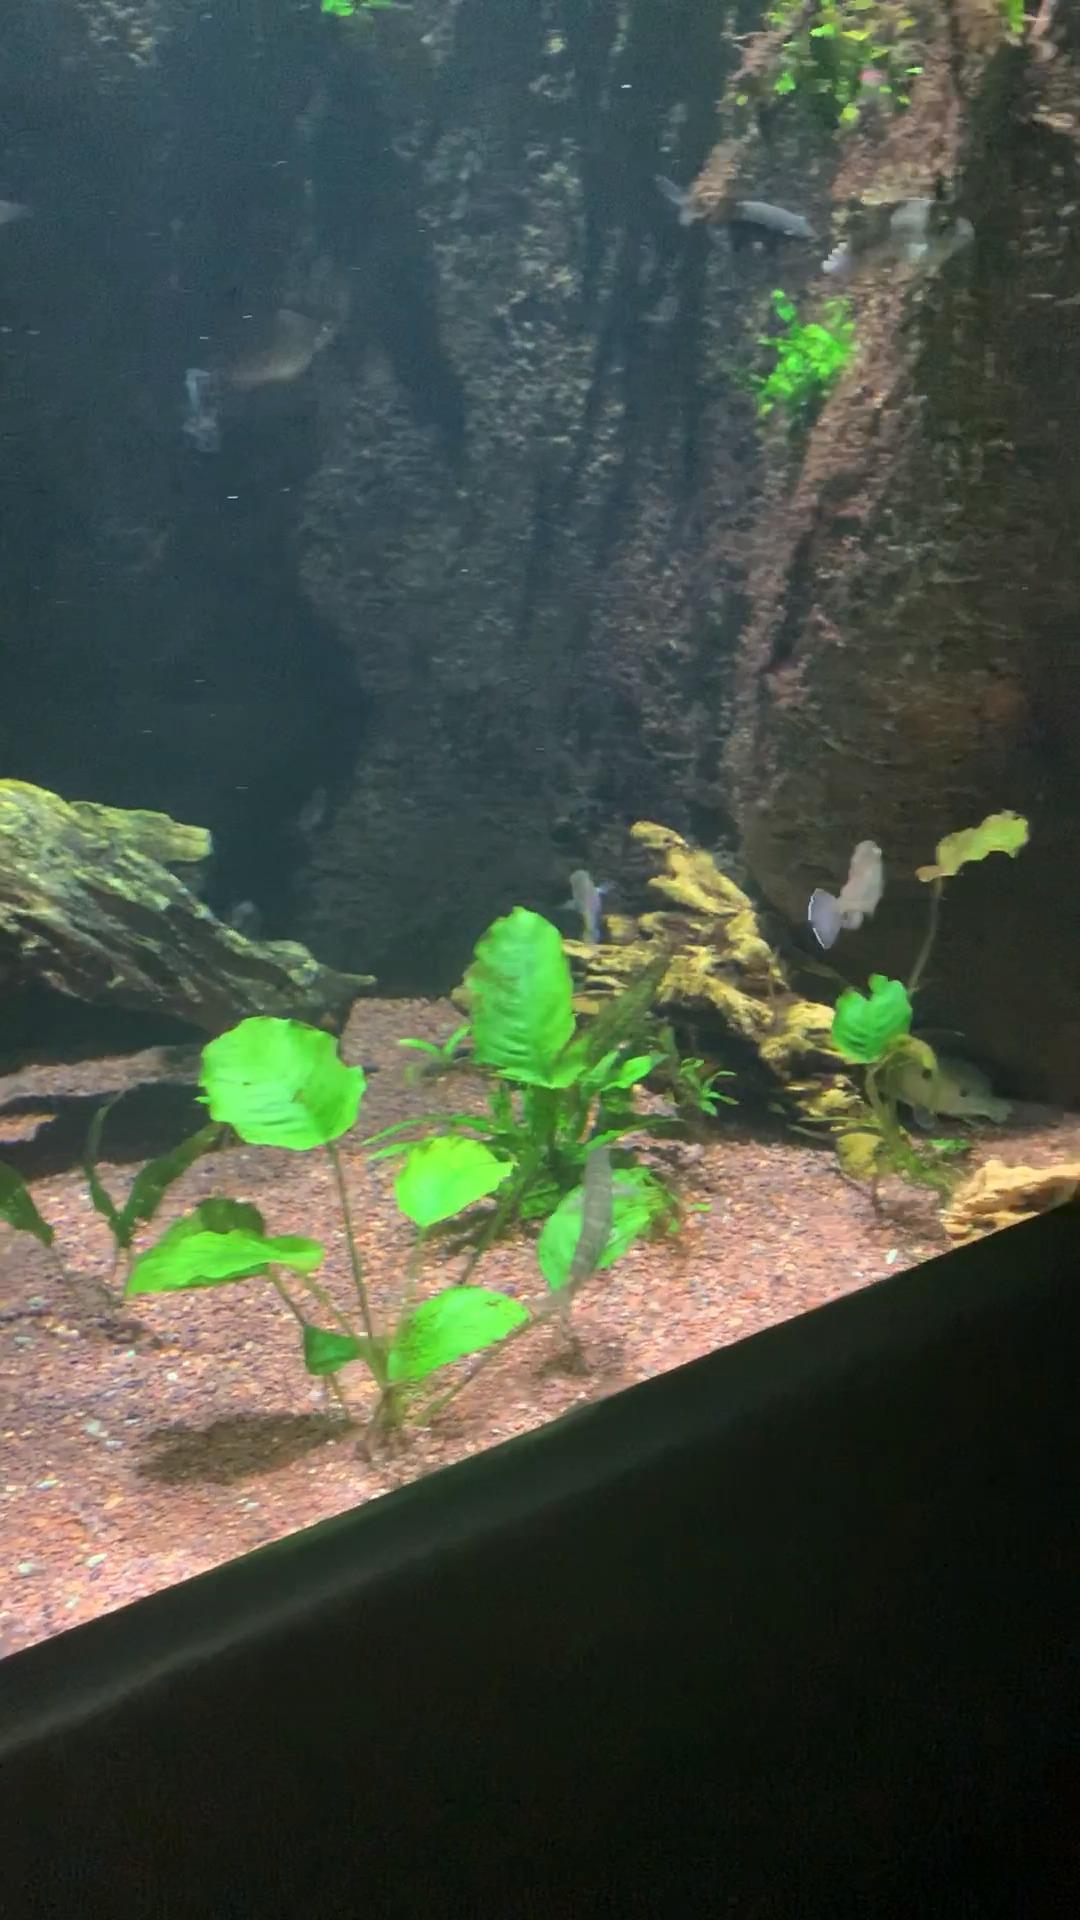fish: (649, 174, 825, 252), (161, 309, 338, 385), (884, 1042, 1011, 1130), (810, 840, 901, 945), (560, 862, 615, 934)
